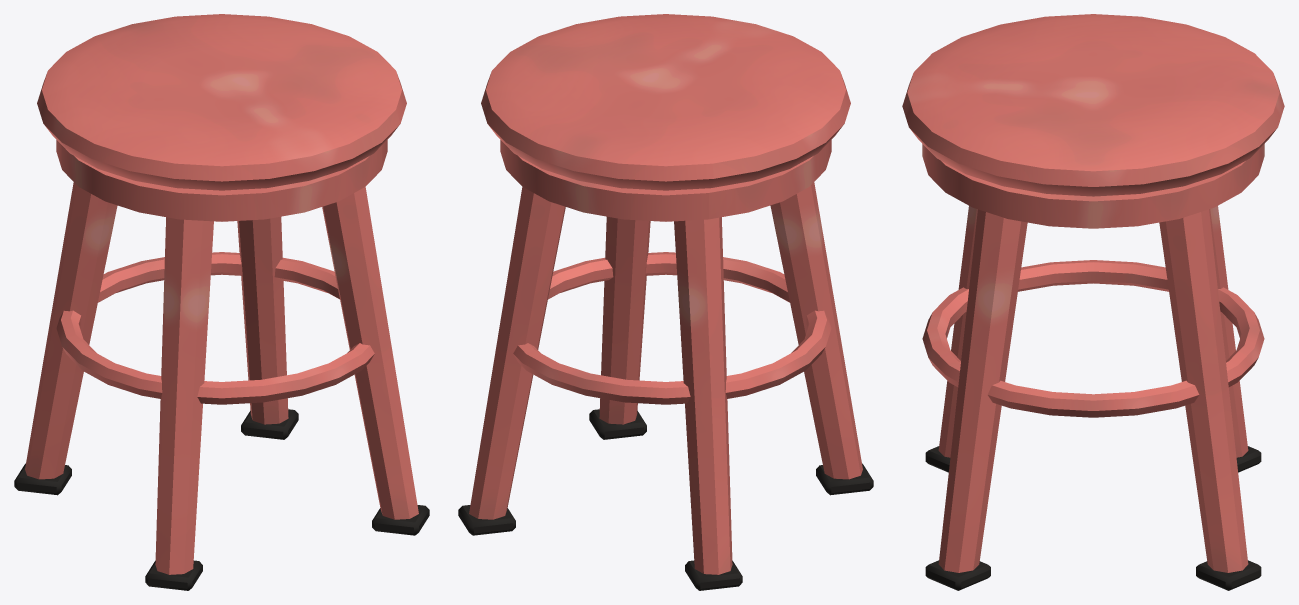
Rendered from stool_plastic_red.glb.
3 views of the same model, side by side, from view 1: azimuth 30°, elevation 25°; view 2: azimuth 150°, elevation 25°; view 3: azimuth 270°, elevation 25° (orthographic). The views are drawn at different scales.
Visible parts, largest first — view 1: stool_plastic_red__plastic_red, stool_plastic_red__rubber_black; view 2: stool_plastic_red__plastic_red, stool_plastic_red__rubber_black; view 3: stool_plastic_red__plastic_red, stool_plastic_red__rubber_black.
Boxes of the visible parts, bbox=[...] form: stool_plastic_red__plastic_red: bbox=[25, 14, 418, 574]; stool_plastic_red__rubber_black: bbox=[14, 409, 429, 590]; stool_plastic_red__plastic_red: bbox=[469, 14, 862, 574]; stool_plastic_red__rubber_black: bbox=[458, 409, 873, 590]; stool_plastic_red__plastic_red: bbox=[902, 14, 1284, 572]; stool_plastic_red__rubber_black: bbox=[925, 446, 1261, 590].
Size of the model in its own units: 0.38 by 0.477 by 0.38.
2 materials, 1 textured.
